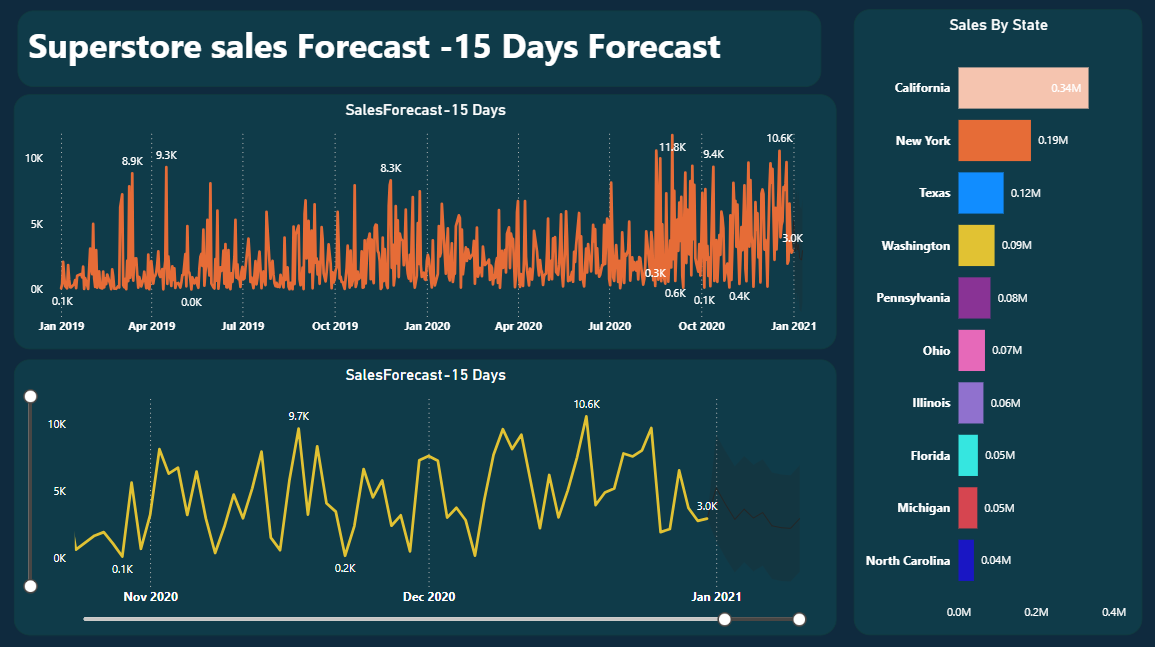

What the dashboard file says about the page in this screenshot:
{"tool":"powerbi","page":{"name":"Page 2","canvas":[1280,720],"ordinal":1},"visuals":[{"type":"lineChart","title":"SalesForecast-15 Days","fields":{"Y":["Sum(SuperStore_Sales_Dataset.Sales)"],"Category":["SuperStore_Sales_Dataset.Order Date"]},"box":[20.6,111.1,902.9,279.9],"z":0},{"type":"lineChart","title":"SalesForecast-15 Days","fields":{"Y":["Sum(SuperStore_Sales_Dataset.Sales)"],"Category":["SuperStore_Sales_Dataset.Order Date"]},"box":[20.6,402.1,902.9,303.3],"z":1},{"type":"clusteredBarChart","title":"Sales By State","fields":{"Y":["Sum(SuperStore_Sales_Dataset.Sales)"],"Category":["SuperStore_Sales_Dataset.State"]},"box":[942.7,17.8,317,687.5],"z":2},{"type":"textbox","box":[24.7,19.2,882.3,83.7],"z":3}]}

Visuals, with their boxes in screenshot pixels (x1, y1, x2, y2), scaled from the page's 1280x720 canvas onto the 1155x647 screenshot:
"SalesForecast-15 Days" lineChart: x1=19 y1=100 x2=833 y2=351
"SalesForecast-15 Days" lineChart: x1=19 y1=361 x2=833 y2=634
"Sales By State" clusteredBarChart: x1=851 y1=16 x2=1137 y2=634
textbox: x1=22 y1=17 x2=818 y2=92
